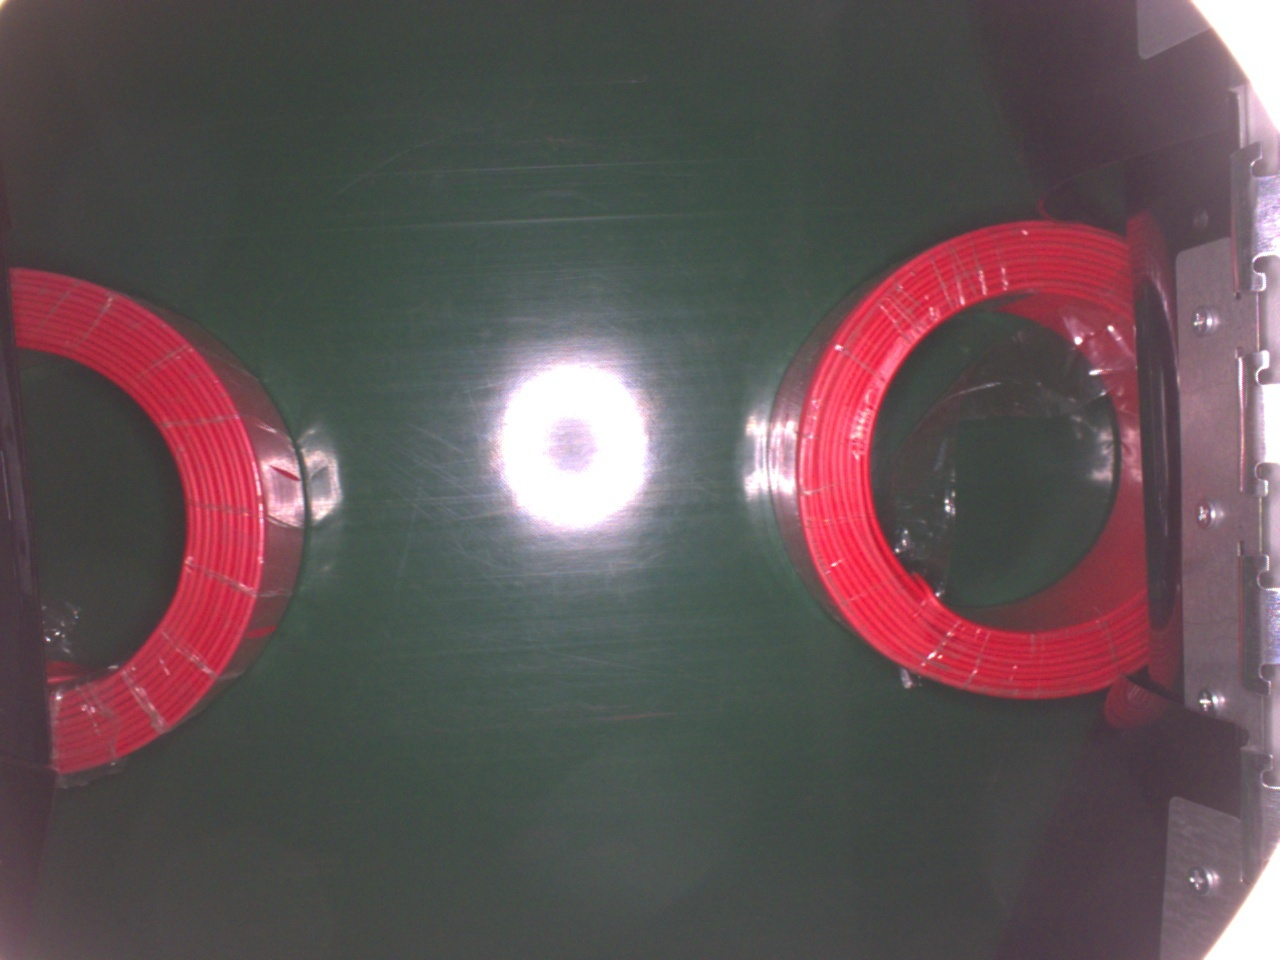red: (764, 217, 1150, 704), (9, 264, 308, 778)
